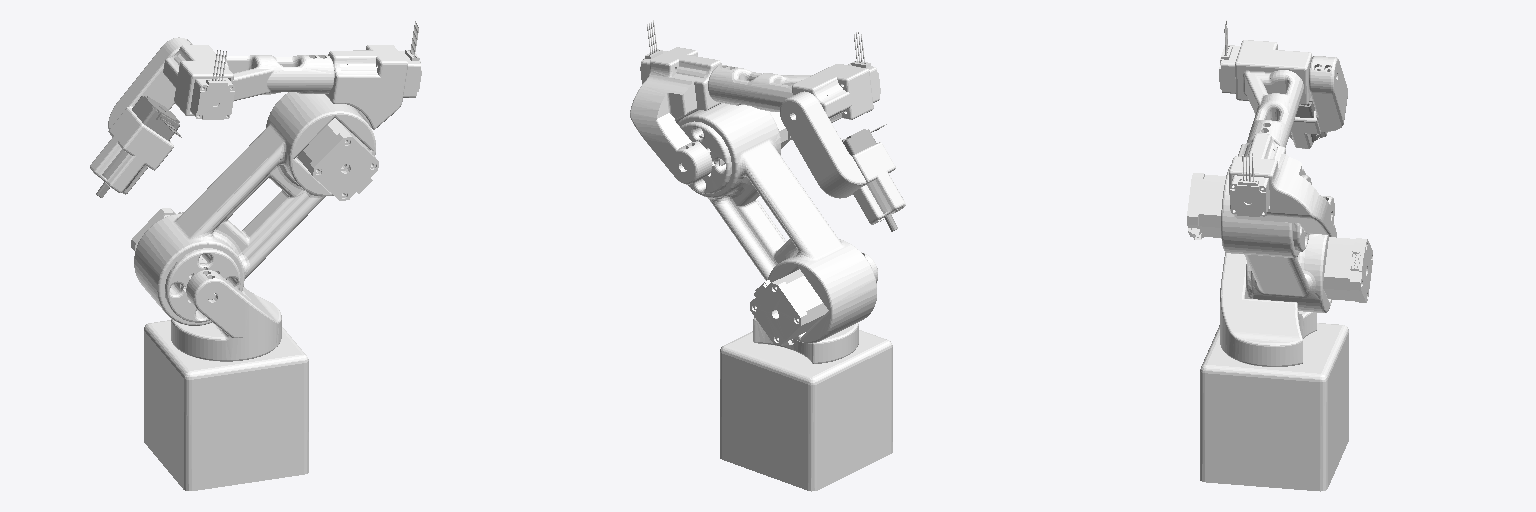
URDF robot description (asd):
<?xml version="1.0" encoding="utf-8" ?>
<!-- This URDF was automatically created by SolidWorks to URDF Exporter! Originally created by [author] ([email redacted]) 
     Commit Version: 1.6.0-1-g15f4949  Build Version: 1.6.7594.29634
     For more information, please see http://wiki.ros.org/sw_urdf_exporter -->
<robot name="asd">
    <link name="base_link">
        <inertial>
            <origin xyz="-7.8444E-17 0.060601 1.6862E-17" rpy="0 0 0" />
            <mass value="0.098899" />
            <inertia ixx="0.0002369" ixy="-6.012E-20" ixz="-5.8937E-20" iyy="0.00027185" iyz="-4.5513E-20" izz="0.0002369" />
        </inertial>
        <visual>
            <origin xyz="0 0 0" rpy="0 0 0" />
            <geometry>
                <mesh filename="package://asd/meshes/base_link.STL" />
            </geometry>
            <material name="">
                <color rgba="1 1 1 1" />
            </material>
        </visual>
        <collision>
            <origin xyz="0 0 0" rpy="0 0 0" />
            <geometry>
                <mesh filename="package://asd/meshes/base_link.STL" />
            </geometry>
        </collision>
    </link>
    <link name="link1">
        <inertial>
            <origin xyz="0.00096508 0.020457 -0.011948" rpy="0 0 0" />
            <mass value="0.14525" />
            <inertia ixx="8.8367E-05" ixy="-1.1727E-05" ixz="1.0311E-05" iyy="0.00011111" iyz="1.9409E-05" izz="9.9992E-05" />
        </inertial>
        <visual>
            <origin xyz="0 0 0" rpy="0 0 0" />
            <geometry>
                <mesh filename="package://asd/meshes/link1.STL" />
            </geometry>
            <material name="">
                <color rgba="1 1 1 1" />
            </material>
        </visual>
        <collision>
            <origin xyz="0 0 0" rpy="0 0 0" />
            <geometry>
                <mesh filename="package://asd/meshes/link1.STL" />
            </geometry>
        </collision>
    </link>
    <joint name="joint1" type="continuous">
        <origin xyz="0 0 0.098" rpy="1.5708 0 2.963" />
        <parent link="base_link" />
        <child link="link1" />
        <axis xyz="0 -1 0" />
        <limit lower="-3.14" upper="3.14" effort="100" velocity="3" />
    </joint>
    <link name="link2">
        <inertial>
            <origin xyz="1.1889E-08 -0.053455 -0.013438" rpy="0 0 0" />
            <mass value="0.50727" />
            <inertia ixx="0.0016732" ixy="9.6555E-12" ixz="-2.2964E-10" iyy="0.0002819" iyz="-1.4798E-05" izz="0.0017533" />
        </inertial>
        <visual>
            <origin xyz="0 0 0" rpy="0 0 0" />
            <geometry>
                <mesh filename="package://asd/meshes/link2.STL" />
            </geometry>
            <material name="">
                <color rgba="1 1 1 1" />
            </material>
        </visual>
        <collision>
            <origin xyz="0 0 0" rpy="0 0 0" />
            <geometry>
                <mesh filename="package://asd/meshes/link2.STL" />
            </geometry>
        </collision>
    </link>
    <joint name="joint2" type="continuous">
        <origin xyz="0.025573 0.057 0" rpy="-3.1416 0 0.83504" />
        <parent link="link1" />
        <child link="link2" />
        <axis xyz="0 0 -1" />
        <limit lower="-3.14" upper="3.14" effort="100" velocity="3" />
    </joint>
    <link name="link3">
        <inertial>
            <origin xyz="-0.011686 0.014271 0.0061667" rpy="0 0 0" />
            <mass value="0.21341" />
            <inertia ixx="9.6225E-05" ixy="1.2826E-05" ixz="-7.4568E-06" iyy="8.8608E-05" iyz="1.9483E-05" izz="8.8243E-05" />
        </inertial>
        <visual>
            <origin xyz="0 0 0" rpy="0 0 0" />
            <geometry>
                <mesh filename="package://asd/meshes/link3.STL" />
            </geometry>
            <material name="">
                <color rgba="1 1 1 1" />
            </material>
        </visual>
        <collision>
            <origin xyz="0 0 0" rpy="0 0 0" />
            <geometry>
                <mesh filename="package://asd/meshes/link3.STL" />
            </geometry>
        </collision>
    </link>
    <joint name="joint3" type="continuous">
        <origin xyz="0 -0.14 0" rpy="3.1416 0 0.68226" />
        <parent link="link2" />
        <child link="link3" />
        <axis xyz="0 0 -1" />
        <limit lower="-3.14" upper="3.14" effort="100" velocity="3" />
    </joint>
    <link name="link4">
        <inertial>
            <origin xyz="0.0027469 7.6295E-06 0.029726" rpy="0 0 0" />
            <mass value="0.12281" />
            <inertia ixx="0.00011827" ixy="-1.3845E-08" ixz="-1.1866E-05" iyy="0.00012545" iyz="-2.1726E-07" izz="2.4813E-05" />
        </inertial>
        <visual>
            <origin xyz="0 0 0" rpy="0 0 0" />
            <geometry>
                <mesh filename="package://asd/meshes/link4.STL" />
            </geometry>
            <material name="">
                <color rgba="1 1 1 1" />
            </material>
        </visual>
        <collision>
            <origin xyz="0 0 0" rpy="0 0 0" />
            <geometry>
                <mesh filename="package://asd/meshes/link4.STL" />
            </geometry>
        </collision>
    </link>
    <joint name="joint4" type="continuous">
        <origin xyz="0 0.0535 0.007" rpy="-1.5708 1.5621 -1.5708" />
        <parent link="link3" />
        <child link="link4" />
        <axis xyz="0 0 1" />
        <limit lower="-3.14" upper="3.14" effort="100" velocity="3" />
    </joint>
    <link name="link5">
        <inertial>
            <origin xyz="2.4993E-05 -0.024284 0.0036916" rpy="0 0 0" />
            <mass value="0.10932" />
            <inertia ixx="7.2868E-05" ixy="-4.5604E-08" ixz="2.9489E-10" iyy="2.4691E-05" iyz="-1.4878E-05" izz="6.5212E-05" />
        </inertial>
        <visual>
            <origin xyz="0 0 0" rpy="0 0 0" />
            <geometry>
                <mesh filename="package://asd/meshes/link5.STL" />
            </geometry>
            <material name="">
                <color rgba="1 1 1 1" />
            </material>
        </visual>
        <collision>
            <origin xyz="0 0 0" rpy="0 0 0" />
            <geometry>
                <mesh filename="package://asd/meshes/link5.STL" />
            </geometry>
        </collision>
    </link>
    <joint name="joint5" type="continuous">
        <origin xyz="0 0 0.112" rpy="-1.5708 -1.0075 1.5708" />
        <parent link="link4" />
        <child link="link5" />
        <axis xyz="0 0 1" />
        <limit lower="-3.14" upper="3.14" effort="100" velocity="3" />
    </joint>
    <link name="link6">
        <inertial>
            <origin xyz="-0.0047212 -0.0048207 0.0465" rpy="0 0 0" />
            <mass value="0.044899" />
            <inertia ixx="5.6932E-06" ixy="5.3782E-10" ixz="1.3272E-14" iyy="5.1194E-06" iyz="1.7708E-13" izz="5.7943E-06" />
        </inertial>
        <visual>
            <origin xyz="0 0 0" rpy="0 0 0" />
            <geometry>
                <mesh filename="package://asd/meshes/link6.STL" />
            </geometry>
            <material name="">
                <color rgba="0.75294 0.75294 0.75294 1" />
            </material>
        </visual>
        <collision>
            <origin xyz="0 0 0" rpy="0 0 0" />
            <geometry>
                <mesh filename="package://asd/meshes/link6.STL" />
            </geometry>
        </collision>
    </link>
    <joint name="joint6" type="fixed">
        <origin xyz="0.0465 -0.073537 -0.0045851" rpy="3.1416 1.5708 -0.055499" />
        <parent link="link5" />
        <child link="link6" />
        <axis xyz="0 0 0" />
        <limit lower="-3.14" upper="3.14" effort="100" velocity="3" />
    </joint>
    <transmission name="trans_joint1">
        <type>transmission_interface/SimpleTransmission</type>
        <joint name="joint1">
            <hardwareInterface>hardware_interface/PositionJointInterface</hardwareInterface>
        </joint>
        <actuator name="joint1_motor">
            <hardwareInterface>hardware_interface/PositionJointInterface</hardwareInterface>
            <mechanicalReduction>1</mechanicalReduction>
        </actuator>
    </transmission>
    <transmission name="trans_joint2">
        <type>transmission_interface/SimpleTransmission</type>
        <joint name="joint2">
            <hardwareInterface>hardware_interface/PositionJointInterface</hardwareInterface>
        </joint>
        <actuator name="joint2_motor">
            <hardwareInterface>hardware_interface/PositionJointInterface</hardwareInterface>
            <mechanicalReduction>1</mechanicalReduction>
        </actuator>
    </transmission>
    <transmission name="trans_joint3">
        <type>transmission_interface/SimpleTransmission</type>
        <joint name="joint3">
            <hardwareInterface>hardware_interface/PositionJointInterface</hardwareInterface>
        </joint>
        <actuator name="joint3_motor">
            <hardwareInterface>hardware_interface/PositionJointInterface</hardwareInterface>
            <mechanicalReduction>1</mechanicalReduction>
        </actuator>
    </transmission>
    <transmission name="trans_joint4">
        <type>transmission_interface/SimpleTransmission</type>
        <joint name="joint4">
            <hardwareInterface>hardware_interface/PositionJointInterface</hardwareInterface>
        </joint>
        <actuator name="joint4_motor">
            <hardwareInterface>hardware_interface/PositionJointInterface</hardwareInterface>
            <mechanicalReduction>1</mechanicalReduction>
        </actuator>
    </transmission>
    <transmission name="trans_joint5">
        <type>transmission_interface/SimpleTransmission</type>
        <joint name="joint5">
            <hardwareInterface>hardware_interface/PositionJointInterface</hardwareInterface>
        </joint>
        <actuator name="joint5_motor">
            <hardwareInterface>hardware_interface/PositionJointInterface</hardwareInterface>
            <mechanicalReduction>1</mechanicalReduction>
        </actuator>
    </transmission>
    <gazebo>
        <plugin name="gazebo_ros_control">
            <robotNamespace>/</robotNamespace>
        </plugin>
    </gazebo>
</robot>

--- Render facts (derived) ---
The picture shows the robot from 3 angles, left to right: view 1: azimuth 30°, elevation 25°; view 2: azimuth 150°, elevation 25°; view 3: azimuth 270°, elevation 25°; orthographic projection.
Robot: asd — 7 links, 6 joints (5 continuous, 1 fixed); root link base_link; default pose: all joints at 0.
Links seen in each view (by area): view 1: base_link, link2, link3, link5, link4, link1, link6; view 2: link2, base_link, link5, link3, link4, link1, link6; view 3: base_link, link2, link4, link3, link1, link5.
Link boxes in pixels (bbox=[...]): base_link: bbox=[144, 320, 308, 490]; link2: bbox=[131, 92, 375, 325]; link3: bbox=[297, 45, 407, 200]; link5: bbox=[90, 37, 234, 194]; link4: bbox=[163, 21, 421, 115]; link1: bbox=[171, 270, 281, 361]; link6: bbox=[96, 96, 181, 197]; link2: bbox=[677, 103, 876, 344]; base_link: bbox=[720, 330, 892, 491]; link5: bbox=[780, 32, 905, 224]; link3: bbox=[630, 47, 791, 184]; link4: bbox=[640, 20, 873, 122]; link1: bbox=[753, 252, 877, 363]; link6: bbox=[842, 124, 897, 231]; base_link: bbox=[1200, 323, 1348, 491]; link2: bbox=[1221, 165, 1372, 312]; link4: bbox=[1230, 40, 1312, 216]; link3: bbox=[1187, 133, 1334, 239]; link1: bbox=[1220, 252, 1316, 366]; link5: bbox=[1219, 20, 1347, 148].
Bounding box of the posed robot: 0.2589 × 0.1439 × 0.3611 m (x, y, z).
Meshes: 7 distinct files referenced, 7 mesh visuals loaded (7 binary STL).
